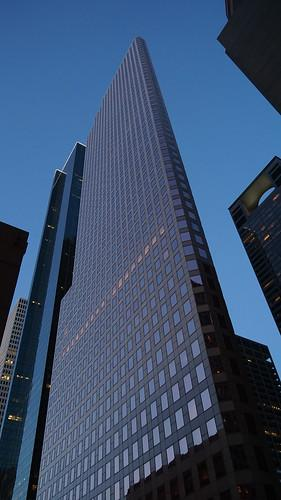building: (12, 38, 281, 500)
